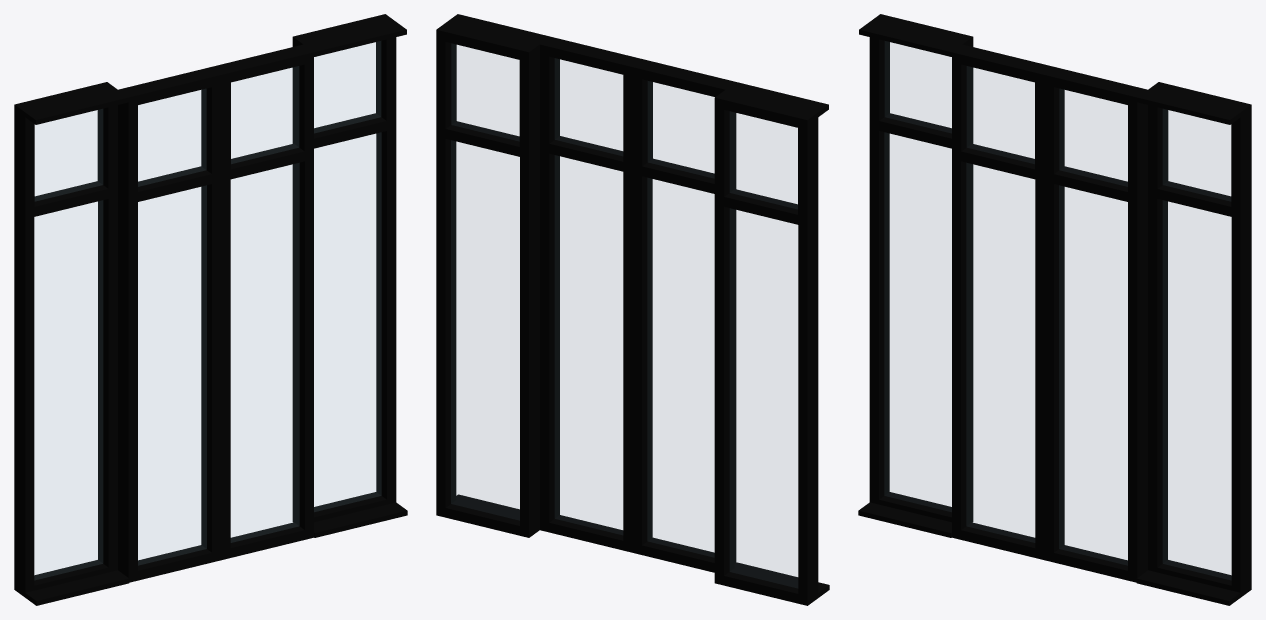
Rendered from Front_Door.fbx.
The picture shows the model from 3 angles, left to right: view 1: azimuth 30°, elevation 25°; view 2: azimuth 150°, elevation 25°; view 3: azimuth 330°, elevation 25°; orthographic projection.
Visible parts, largest first — view 1: WindowFrame.003, WindowFrame.001, WindowPaneBig.001, WindowPaneBig.002, WindowFrame.002, WindowPaneSmall.001, WindowPaneSmall.002; view 2: WindowFrame.003, WindowFrame.001, WindowFrame.002, WindowPaneBig.002, WindowPaneBig.001, WindowPaneSmall.001, WindowPaneSmall.002; view 3: WindowFrame.003, WindowFrame.002, WindowPaneBig.002, WindowPaneBig.001, WindowFrame.001, WindowPaneSmall.002, WindowPaneSmall.001.
Part boxes in pixels (x1,y1,x2,y2): WindowFrame.003: (118, 44, 313, 582); WindowFrame.001: (14, 82, 129, 605); WindowPaneBig.001: (35, 201, 102, 579); WindowPaneBig.002: (314, 133, 380, 511); WindowFrame.002: (292, 14, 407, 537); WindowPaneSmall.001: (35, 109, 102, 200); WindowPaneSmall.002: (314, 41, 380, 131); WindowFrame.003: (540, 36, 736, 572); WindowFrame.001: (714, 82, 829, 605); WindowFrame.002: (436, 14, 549, 537); WindowPaneBig.002: (451, 141, 519, 519); WindowPaneBig.001: (730, 209, 797, 587); WindowPaneSmall.001: (730, 112, 797, 208); WindowPaneSmall.002: (452, 44, 518, 140); WindowFrame.003: (952, 44, 1147, 582); WindowFrame.002: (1136, 82, 1251, 605); WindowPaneBig.002: (1163, 201, 1230, 578); WindowPaneBig.001: (885, 133, 951, 511); WindowFrame.001: (858, 14, 973, 537); WindowPaneSmall.002: (1163, 109, 1230, 200); WindowPaneSmall.001: (885, 41, 951, 131).
Bounding box in the file's own units: 360 × 450 × 37.03.
